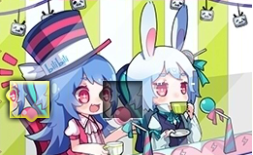gap: (99, 81, 143, 123)
